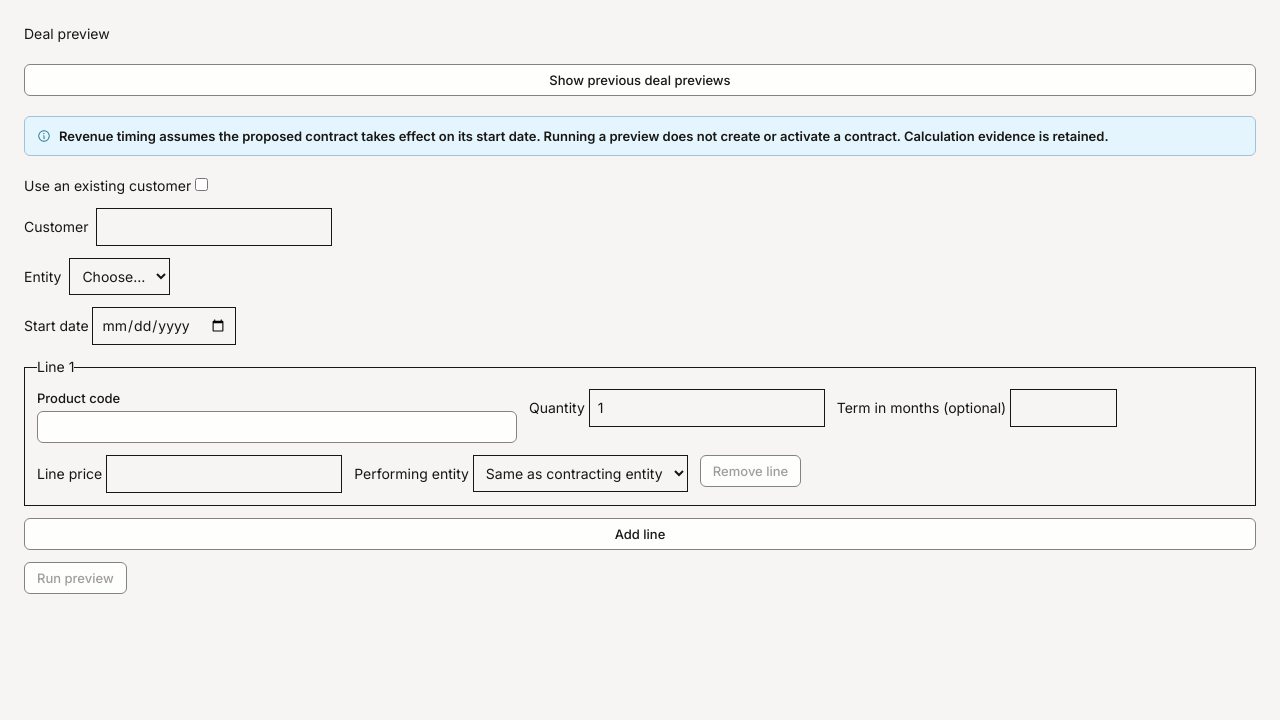
Test: submits exact decimal amounts in the authorized entity currency and retains fields after a network failure
This screenshot has width=1280, height=720.
In the field labelled "Customer": point(214, 227) [96,208,332,246], type "Buyer"
Select "US · USD" in the dropdown labelled "Entity": point(120, 276) [69,258,170,295]
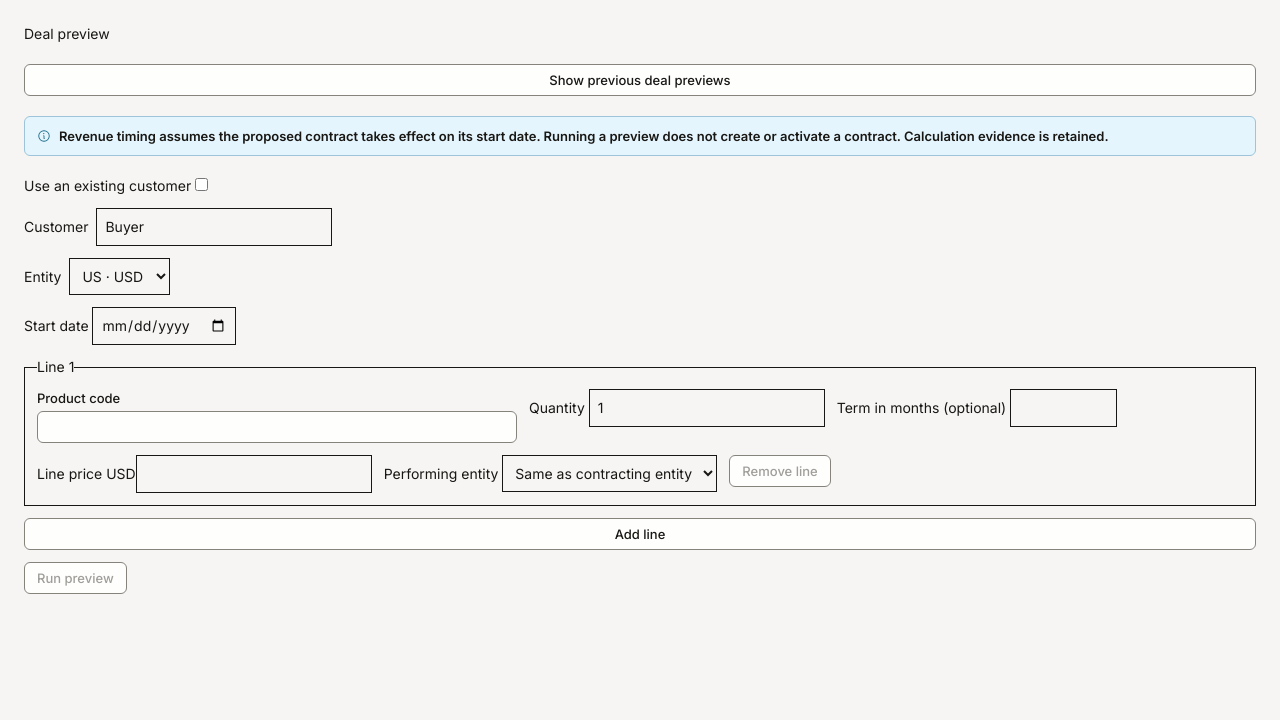
In the date field labelled "Start date": point(164, 326) [92,307,236,345], type "2026-11-01"
In the dropdown labelled "Product code": point(277, 427) [37,411,517,443], type "Enterprise"
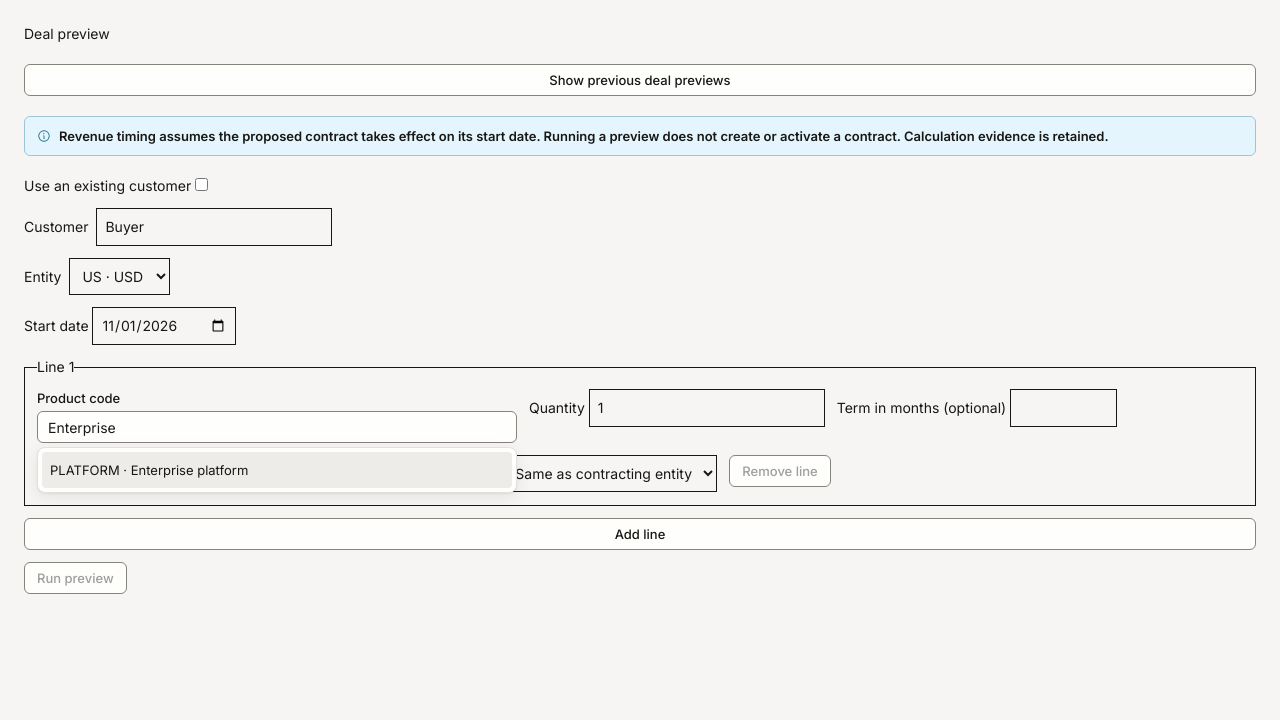
Press the mouse on the option "PLATFORM · Enterprise platform": point(149, 470) [42,452,512,488]
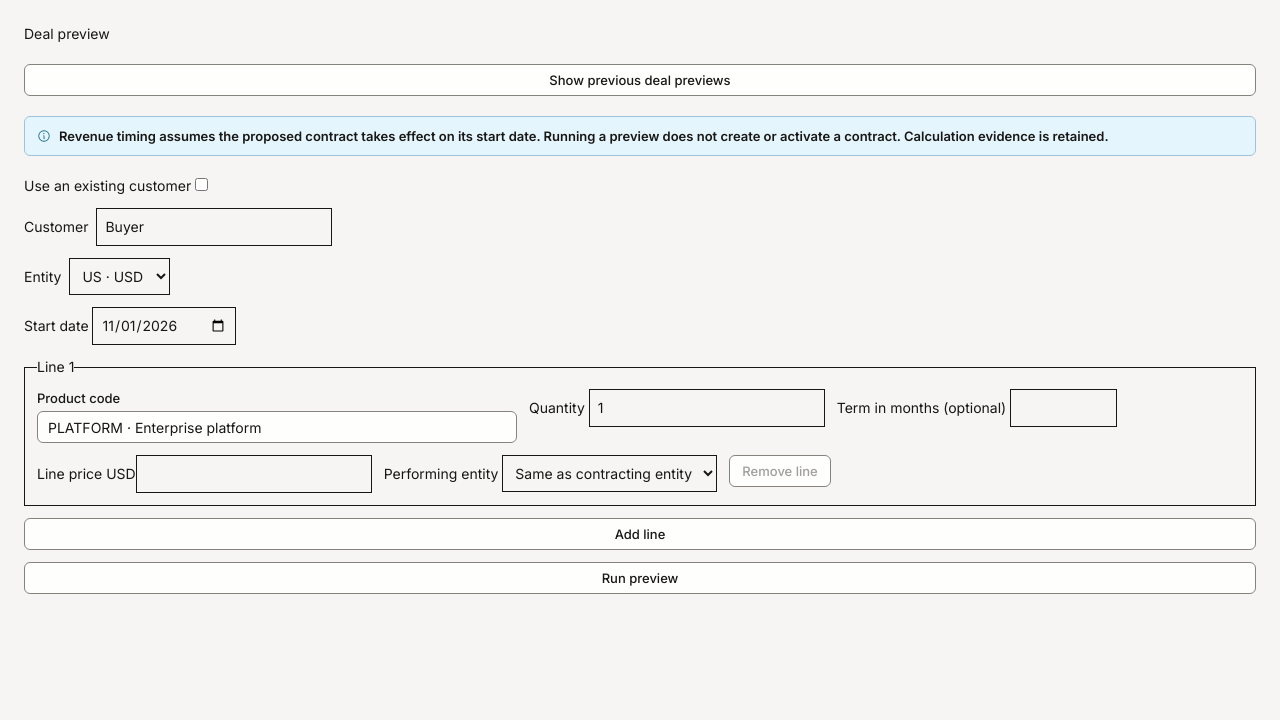
In the field labelled "Line price USD": point(254, 474) [136,455,372,493], type "90000.01"
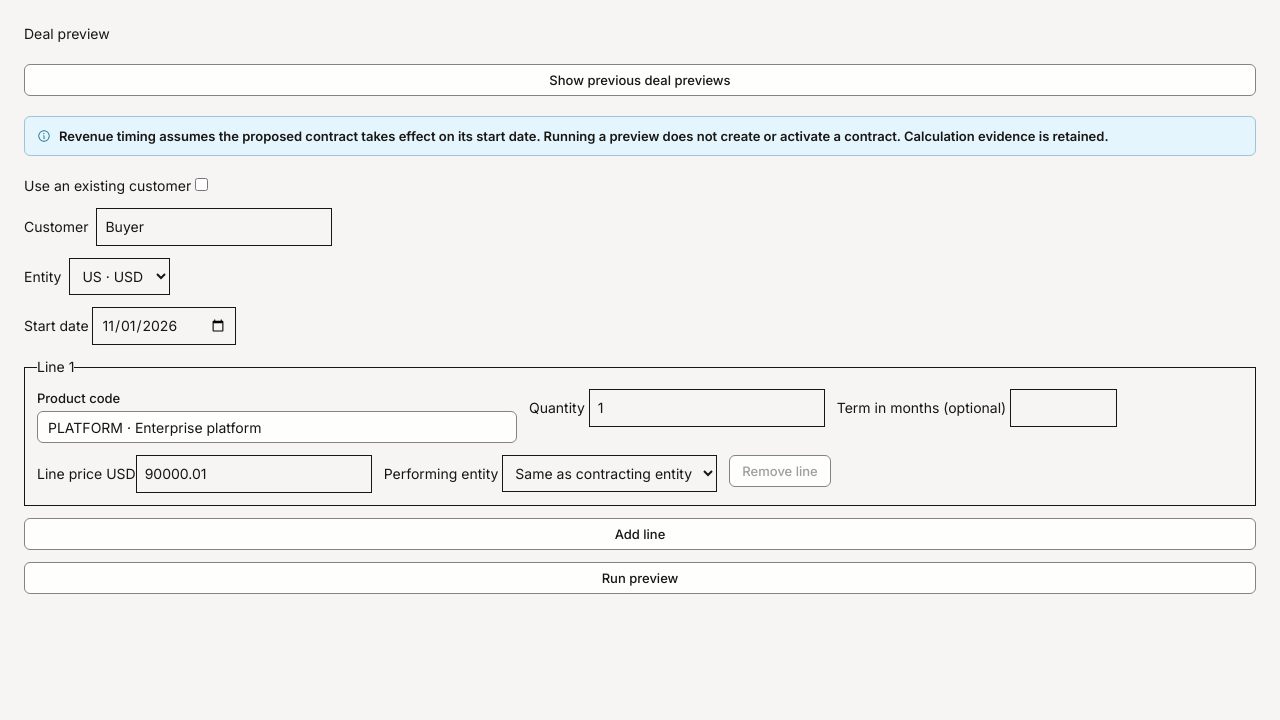
In the number field labelled "Term in months (optional)": point(1064, 408) [1010,389,1117,427], type "12"
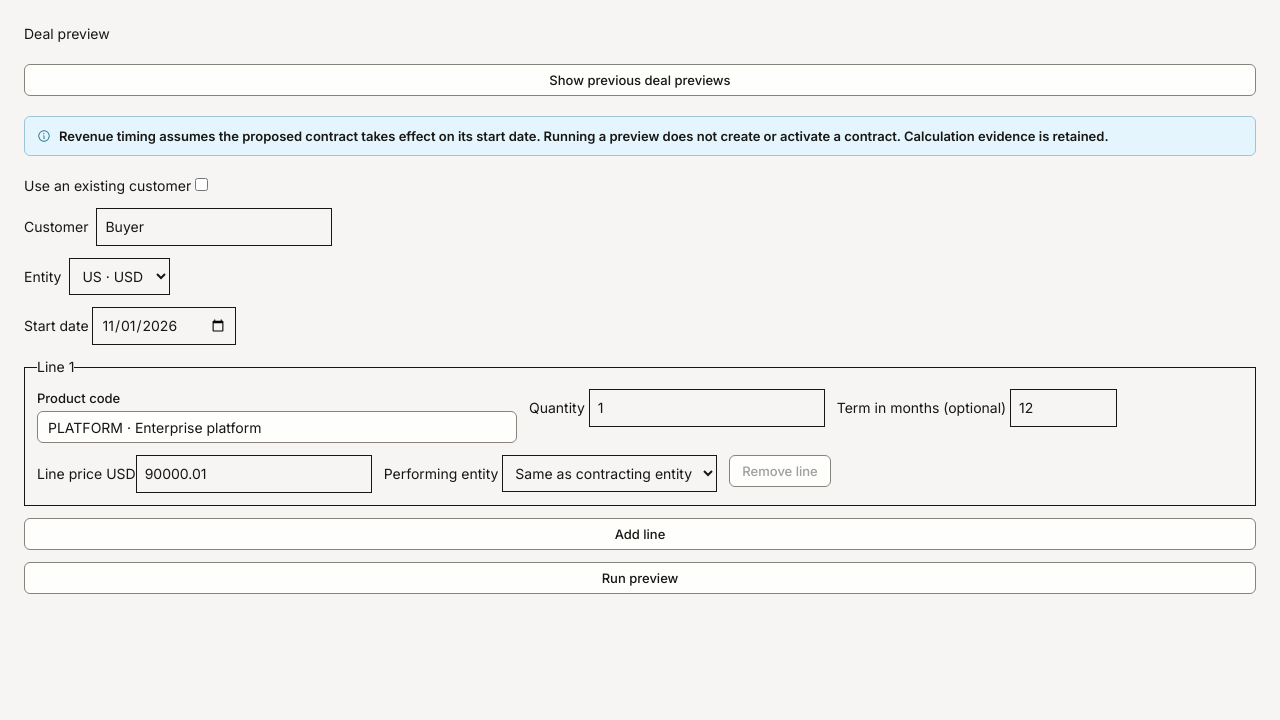
Click the button "Run preview": point(640, 578) [24,562,1256,594]
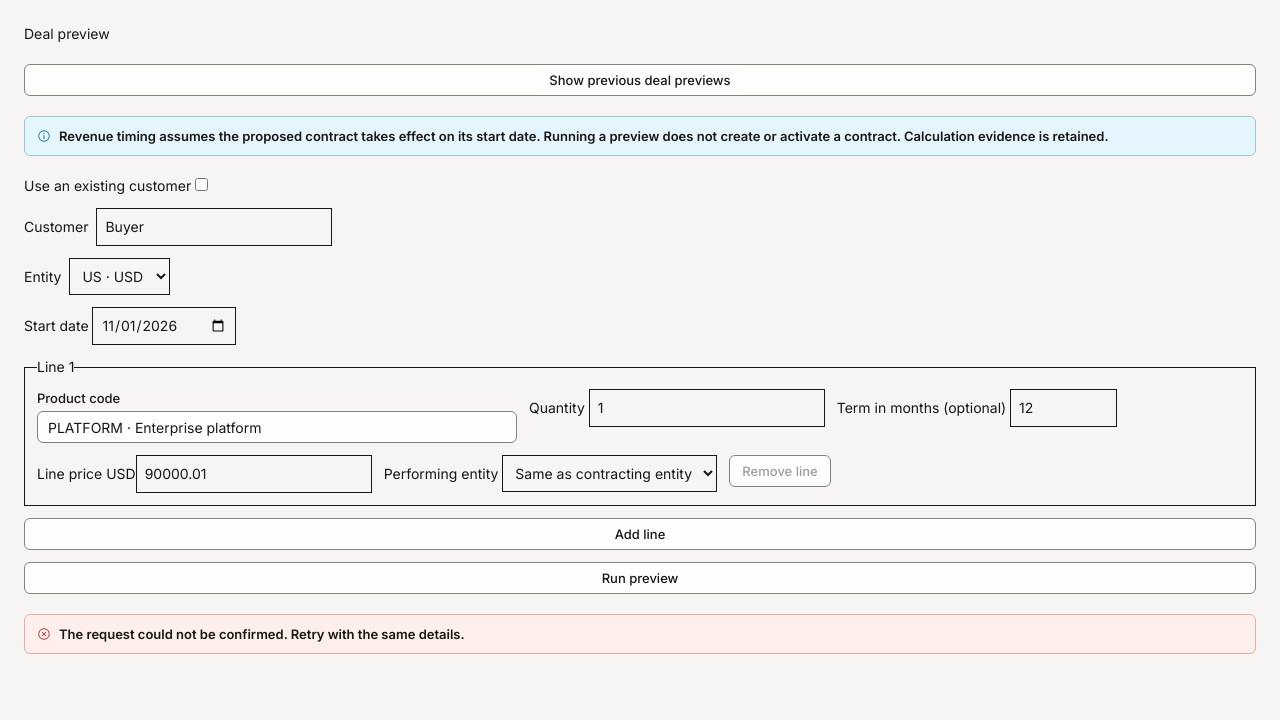
Check: the heading "request could not be confirmed" is shown, box [59,626,465,642]
